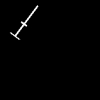double_crochet: (11, 6, 37, 38)
